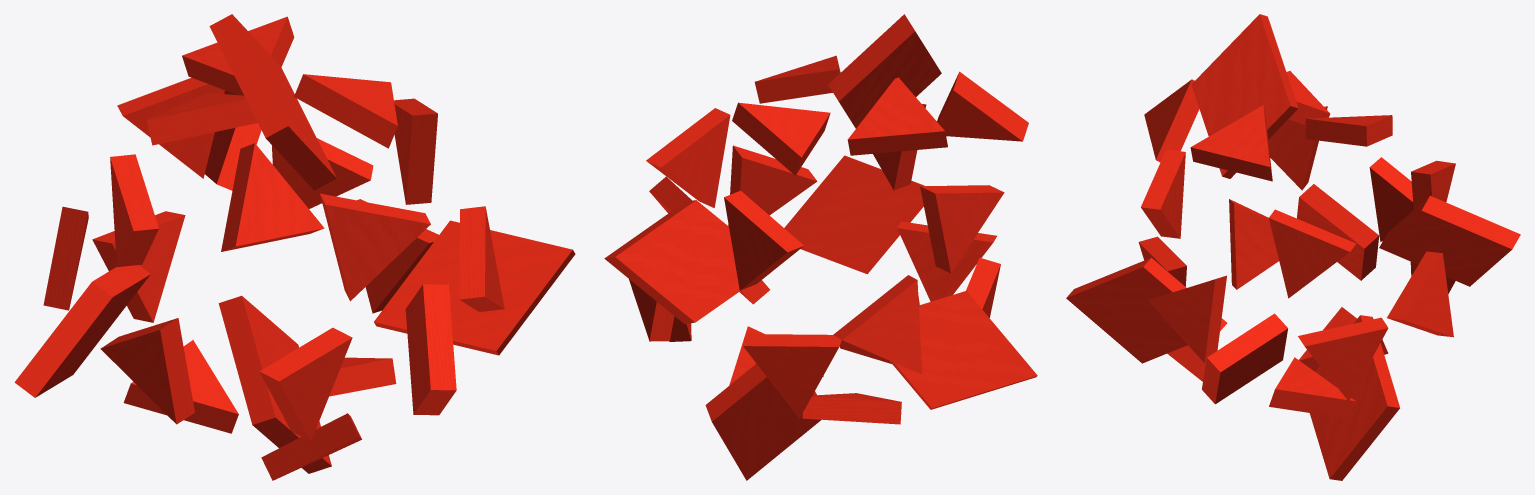
Rendered from qini_rich.obj.
3 renders of one model, left to right at view 1: azimuth 30°, elevation 25°; view 2: azimuth 150°, elevation 25°; view 3: azimuth 270°, elevation 25°, orthographic. The views are drawn at different scales.
Visible parts, largest first — view 1: Cube.002; view 2: Cube.002; view 3: Cube.002.
Boxes of the visible parts, x1=… form: Cube.002: x1=14, y1=14, x2=575, y2=480; Cube.002: x1=604, y1=14, x2=1037, y2=480; Cube.002: x1=1066, y1=14, x2=1520, y2=480.
Size of the model in its own units: 1.78 by 1.79 by 1.77.
